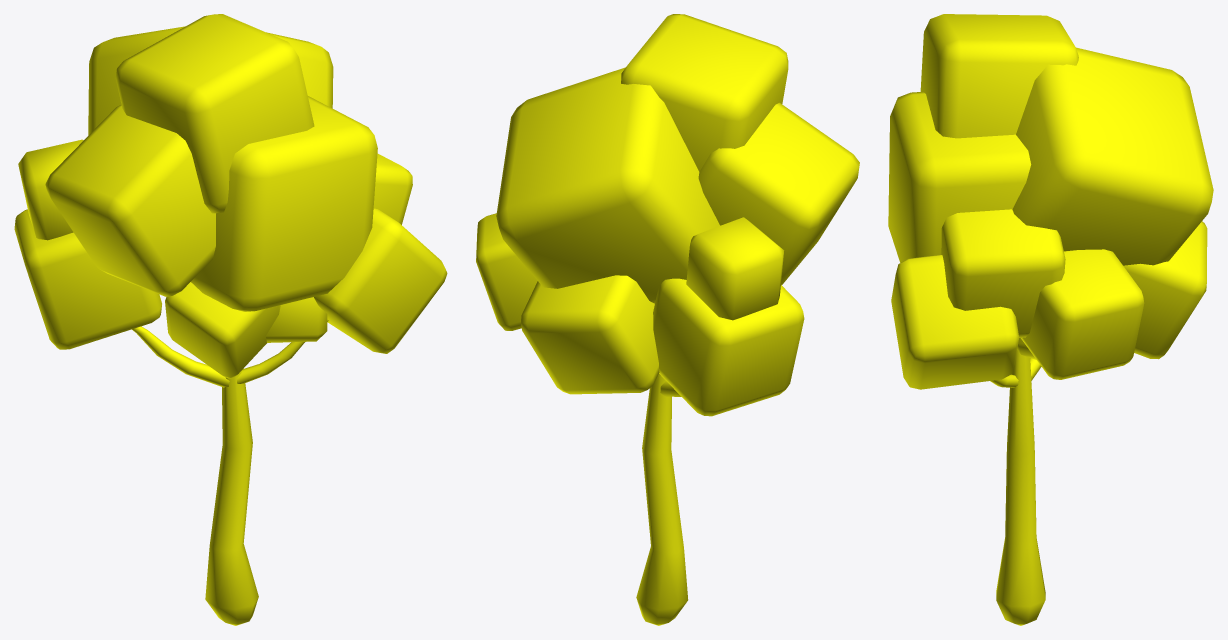
File: kaykit-tree-2-d-color-1.glb
The picture shows the model from 3 angles, left to right: view 1: azimuth 30°, elevation 25°; view 2: azimuth 150°, elevation 25°; view 3: azimuth 270°, elevation 25°; orthographic projection. The views are drawn at different scales.
Parts seen in each view (by area): view 1: Tree_2_D_Color1; view 2: Tree_2_D_Color1; view 3: Tree_2_D_Color1.
Boxes of the visible parts, x1=… form: Tree_2_D_Color1: x1=14, y1=14, x2=447, y2=625; Tree_2_D_Color1: x1=476, y1=14, x2=859, y2=625; Tree_2_D_Color1: x1=888, y1=14, x2=1213, y2=625.
Size of the model in its own units: 4.74 by 8.09 by 4.03.
